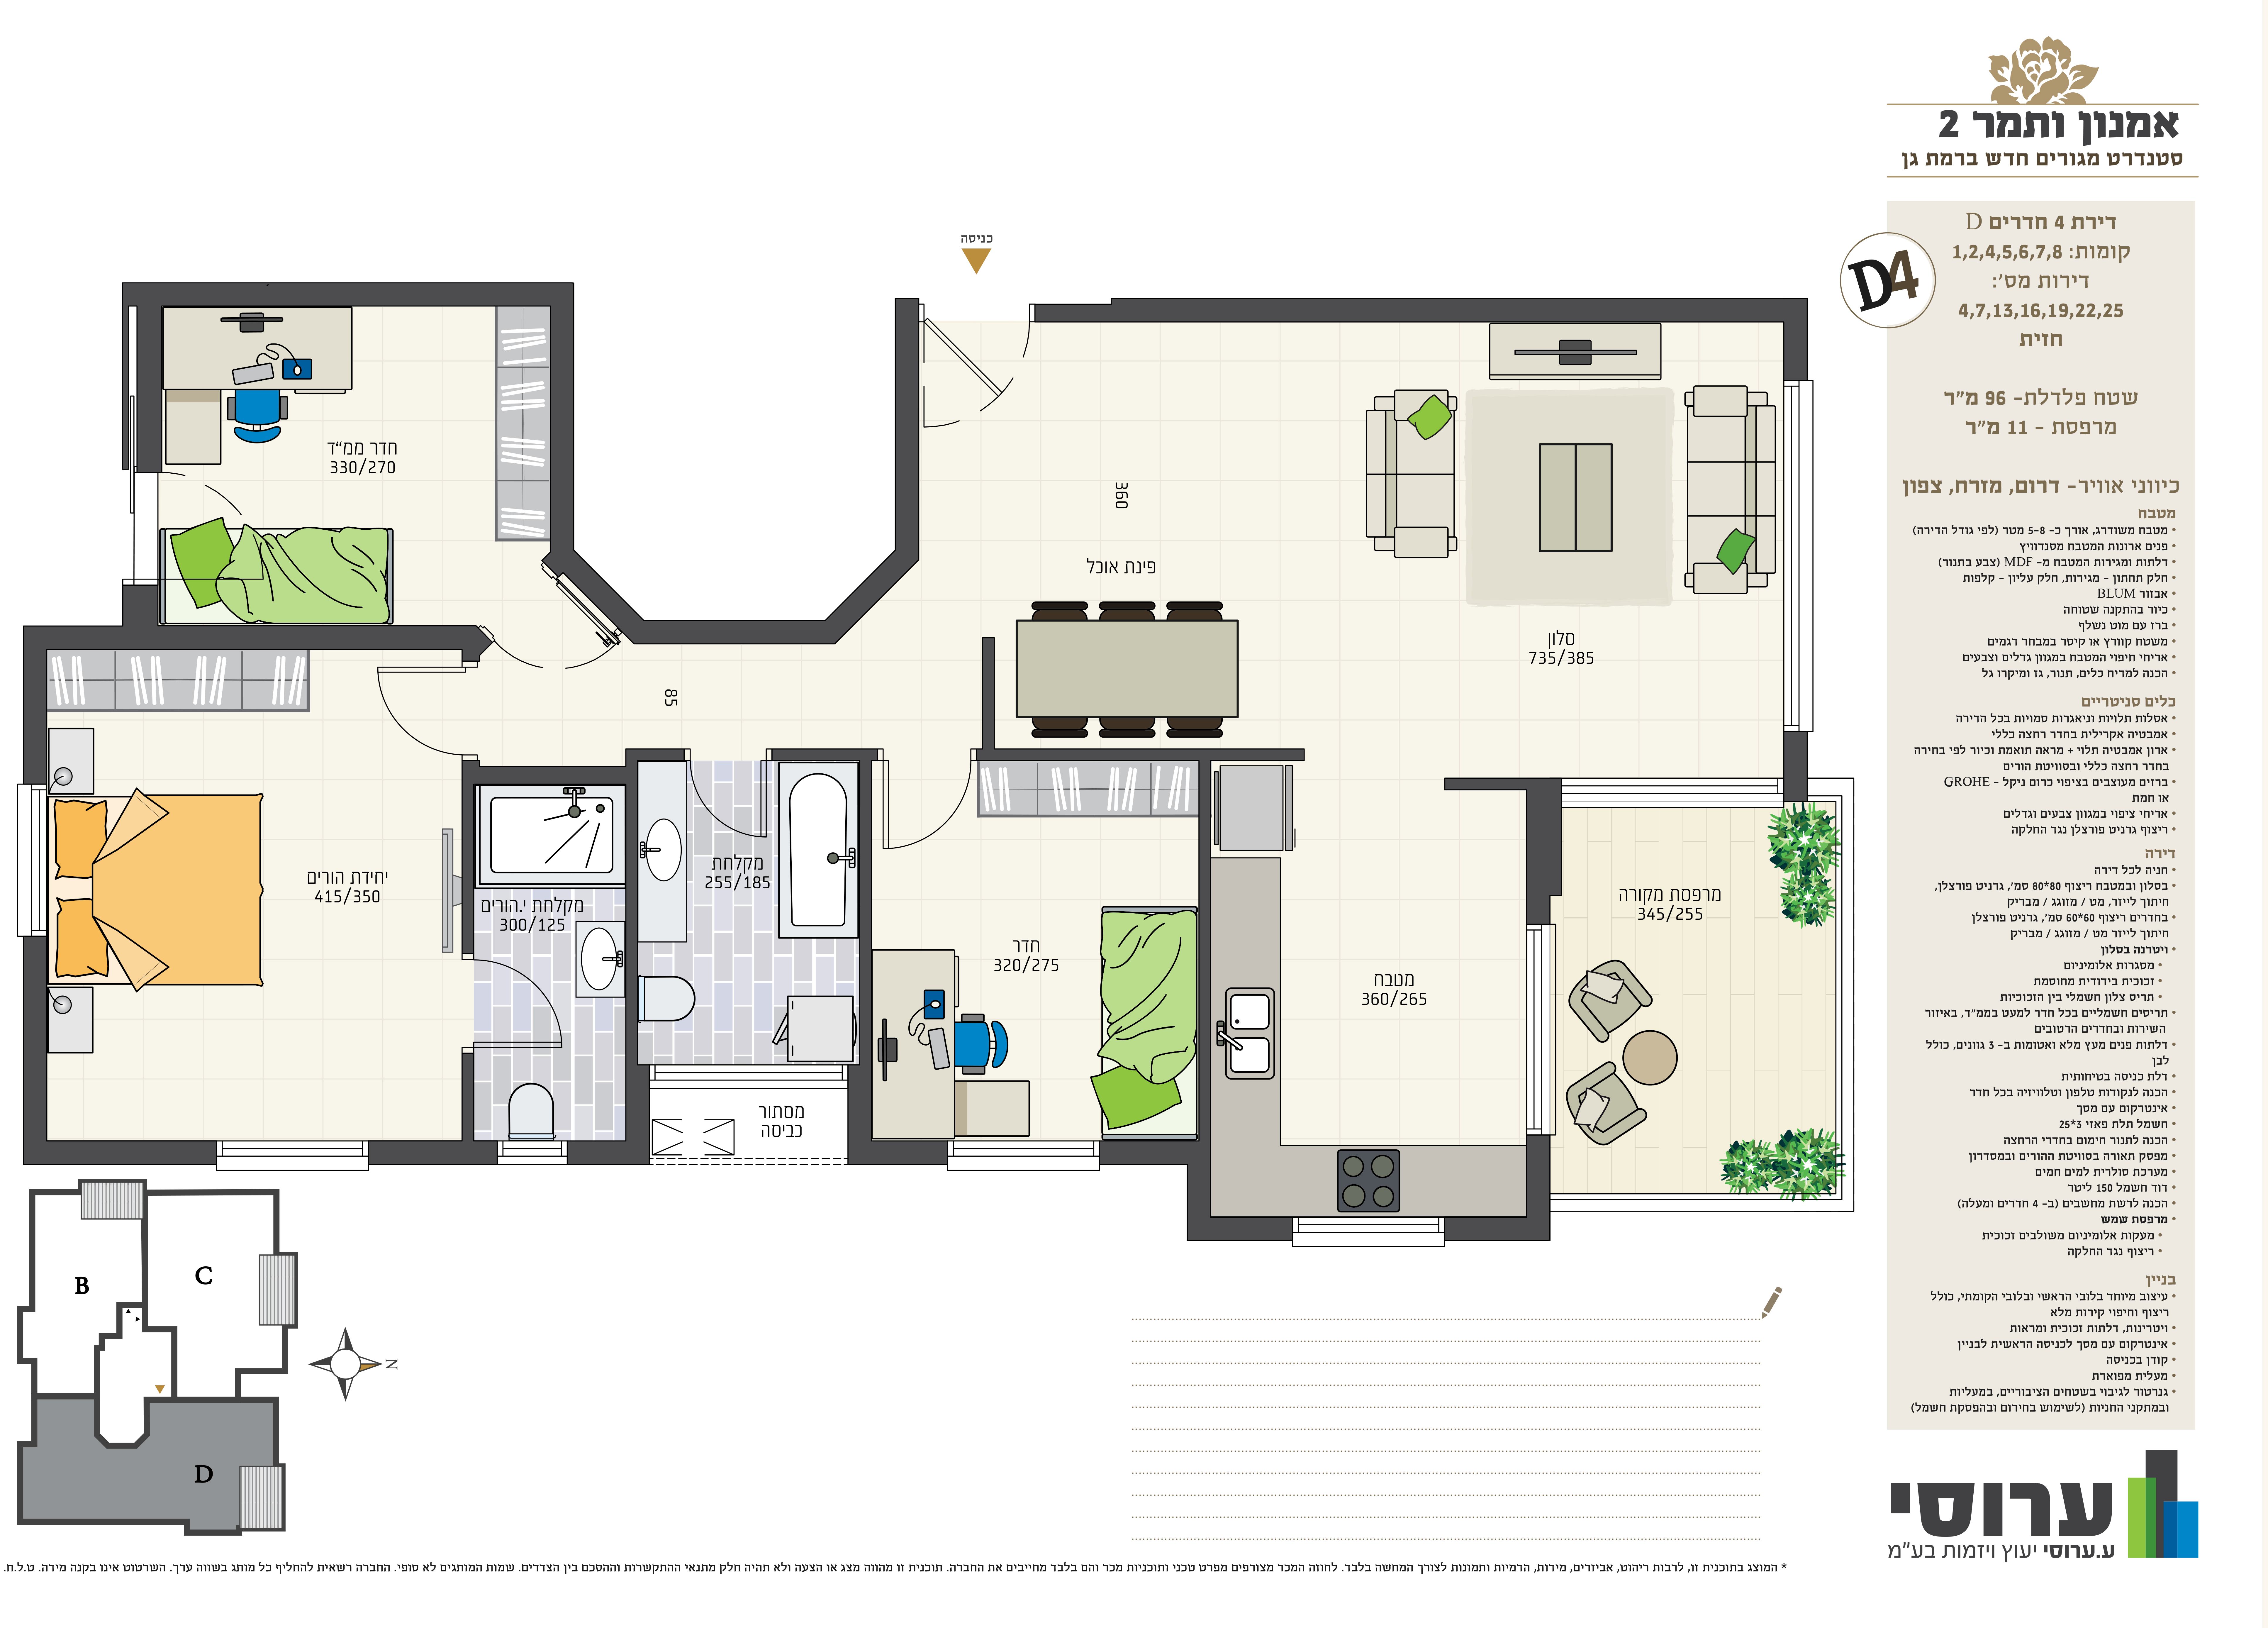room: (977, 287, 1810, 770), (21, 624, 477, 1166), (1197, 745, 1555, 1246), (120, 280, 574, 650), (121, 282, 574, 650), (856, 747, 1211, 1173), (627, 745, 875, 1092), (458, 761, 639, 1175)
